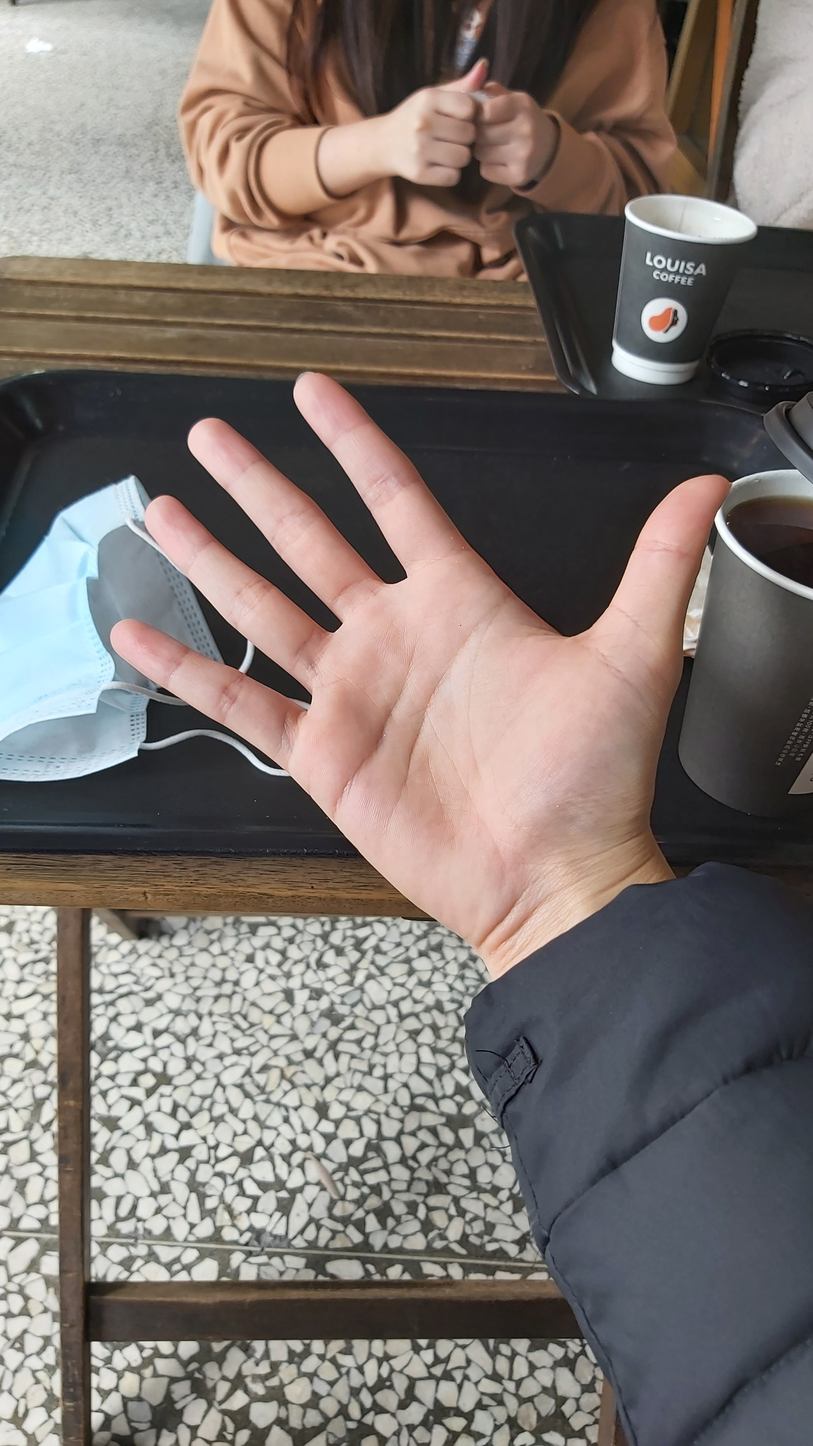No-gloves: (87, 334, 757, 1041)
